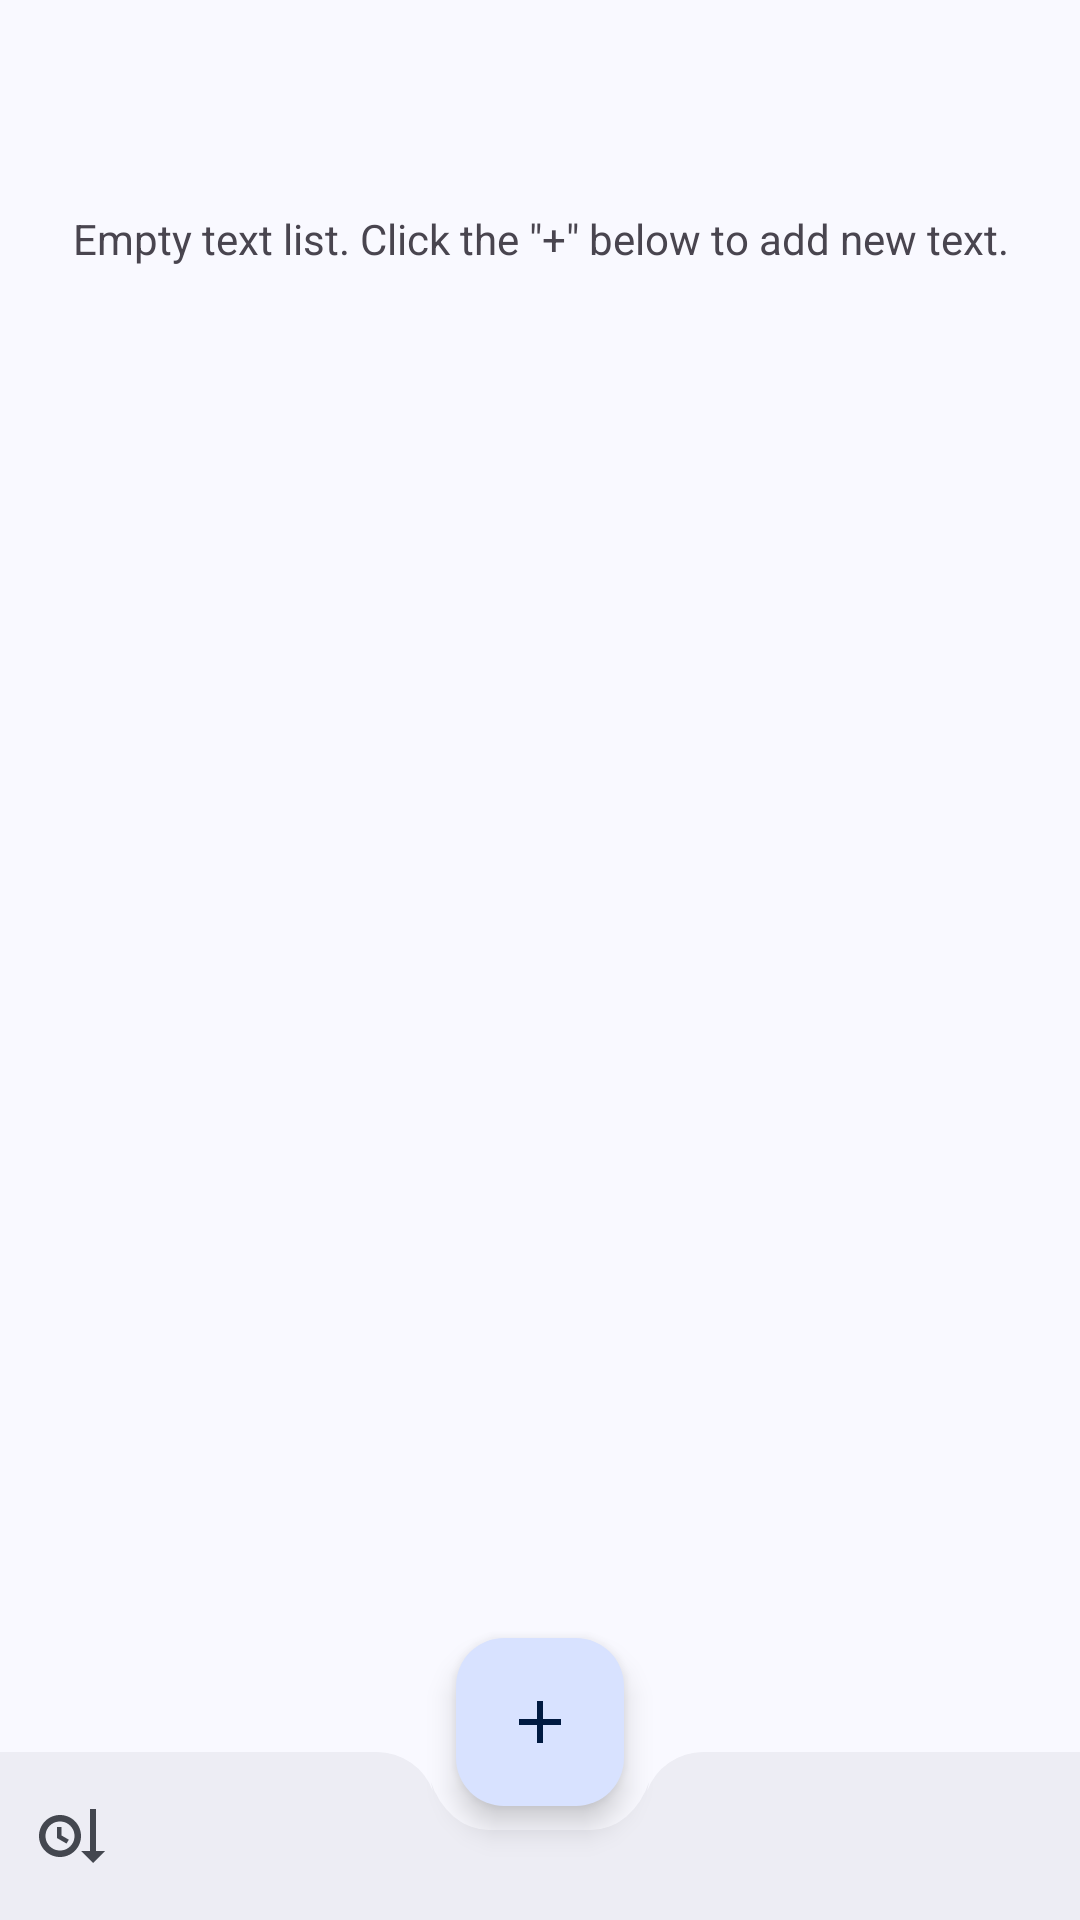

Screen size 1080px×1920px. Icon name, then its center in pixels as (x,y):
Add text: (540,1752)
